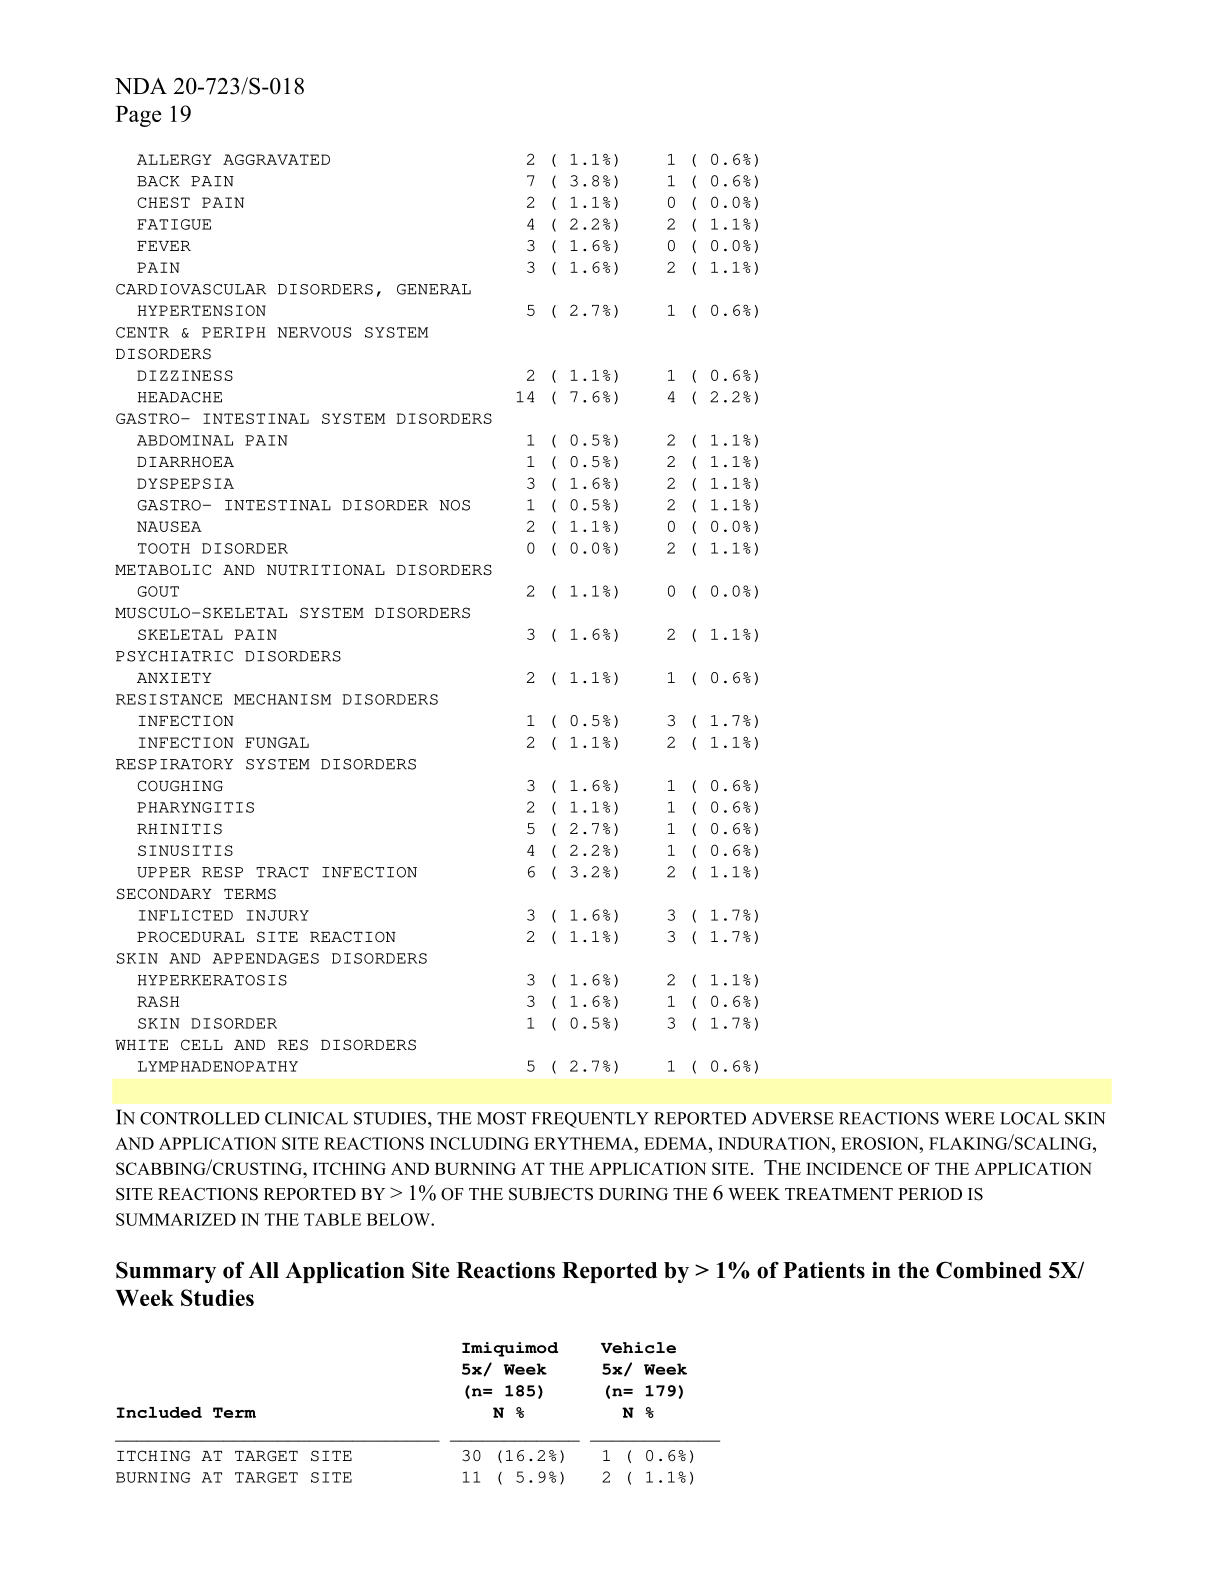nolines: (113, 150, 764, 1077), (113, 1336, 717, 1485)
